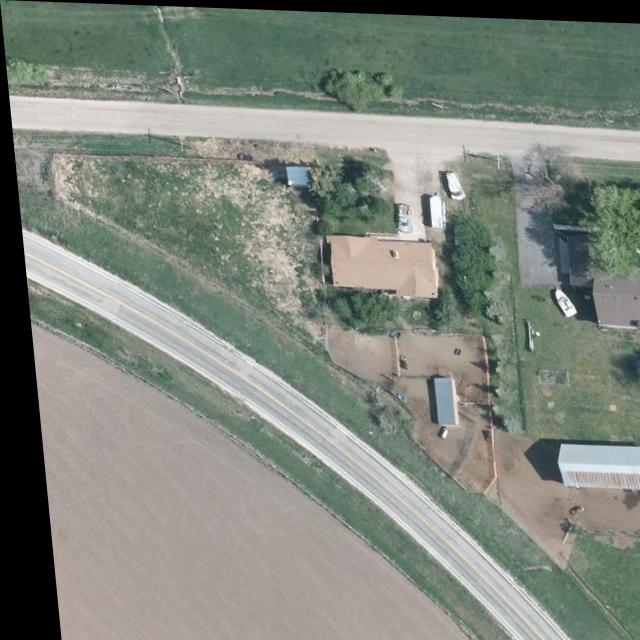vehicle: (444, 169, 463, 198), (391, 201, 409, 230)
